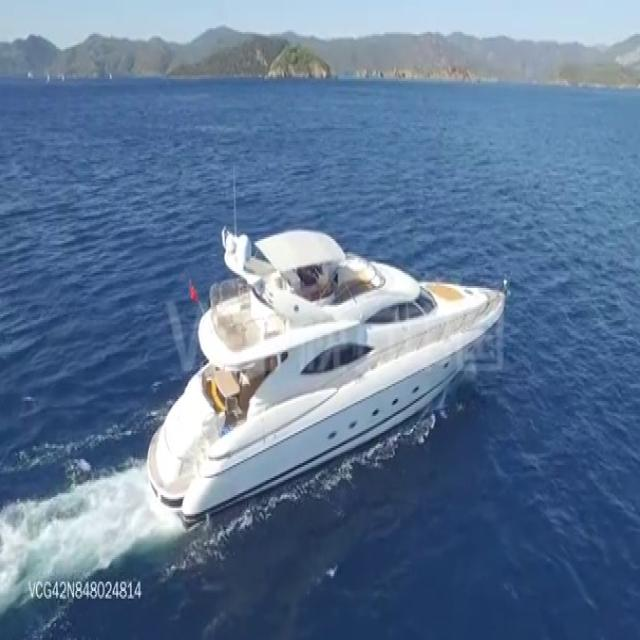houseboat: (146, 214, 504, 514)
